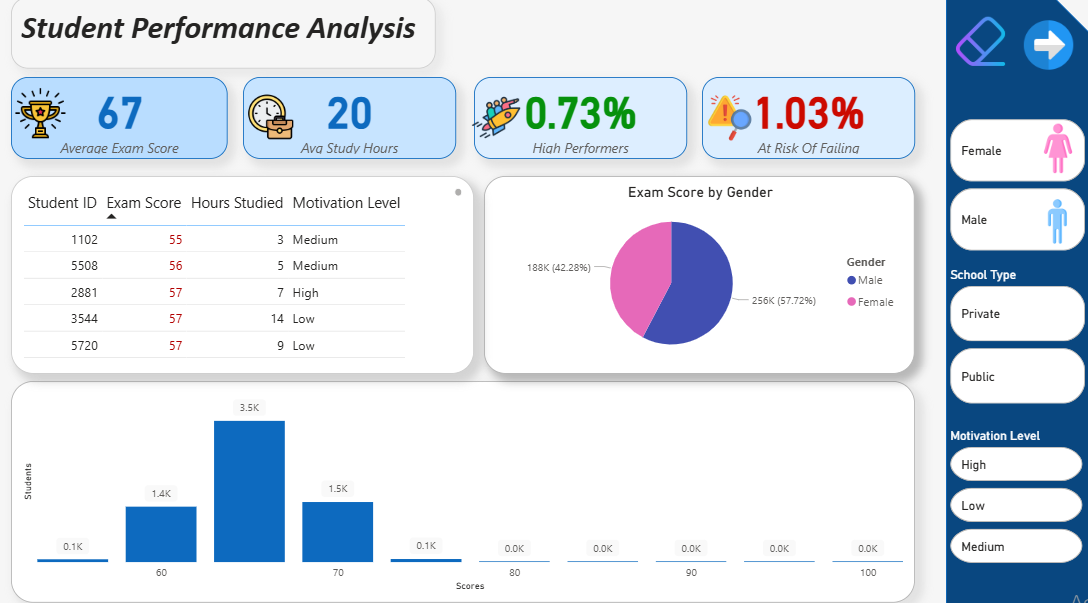

The dashboard page shown, as its layout file describes it:
{"tool":"powerbi","page":{"name":"overview","canvas":[1280,720],"ordinal":0},"visuals":[{"type":"textbox","box":[15.2,0,498.4,84.4],"z":0},{"type":"card","title":"Average exam score","fields":{"Values":["StudentPerformanceFactors.Avg Exam Score"]},"box":[15.2,93.8,254.5,96.2],"z":1000},{"type":"card","fields":{"Values":["StudentPerformanceFactors.Avg Study Hours"]},"box":[287.3,93.8,249.8,96.2],"z":2000},{"type":"card","fields":{"Values":["StudentPerformanceFactors.High Performer %"]},"box":[558.2,93.8,249.8,96.2],"z":3000},{"type":"card","fields":{"Values":["StudentPerformanceFactors.At Risk %"]},"box":[825.5,93.8,249.8,96.2],"z":4000},{"type":"columnChart","fields":{"Y":["CountNonNull(StudentPerformanceFactors.Student_Id)"],"Category":["StudentPerformanceFactors.Score Bucket"]},"box":[15.2,450.3,1060.1,260.3],"z":5000},{"type":"pieChart","title":"Exam Score by Gender","fields":{"Category":["StudentPerformanceFactors.Gender"],"Y":["Sum(StudentPerformanceFactors.Exam_Score)"]},"box":[569.9,209.9,505.4,232.2],"z":6000},{"type":"shape","box":[1111.7,0,168.9,799.7],"z":7000},{"type":"advancedSlicerVisual","fields":{"Values":["StudentPerformanceFactors.Gender"]},"box":[1111.7,138.4,168.9,164.2],"z":10000},{"type":"advancedSlicerVisual","title":"School Type","fields":{"Values":["StudentPerformanceFactors.School_Type"]},"box":[1111.7,317.8,168.9,164.2],"z":11000},{"type":"tableEx","fields":{"Values":["StudentPerformanceFactors.Student_Id","StudentPerformanceFactors.Exam_Score","StudentPerformanceFactors.Hours_Studied","StudentPerformanceFactors.Motivation_Level"]},"box":[15.2,209.9,542.9,232.2],"z":12000},{"type":"advancedSlicerVisual","title":"Motivation Level","fields":{"Values":["StudentPerformanceFactors.Motivation_Level"]},"box":[1111.7,506.6,165.3,164.2],"z":13000},{"type":"image","box":[15.2,99.7,69.2,72.7],"z":14000},{"type":"image","box":[287.3,109.1,64.5,63.3],"z":15000},{"type":"image","box":[825.5,110.2,65.7,63.3],"z":16000},{"type":"image","box":[545.3,104.4,77.4,73.9],"z":17000},{"type":"image","box":[1209,139.5,68,76.2],"z":18000},{"type":"image","box":[1204.3,232.2,76.2,62.1],"z":19000},{"type":"image","box":[1194.9,22.3,73.9,68],"z":19002},{"type":"image","box":[1111.7,9.4,80.9,84.4],"z":19003}]}

Visuals, with their boxes on the page's 1280x720 design canvas (x1, y1, x2, y2). These are canvas units, not pixel positions in the 1088x603 screenshot, which may show the page scaled, cropped or inside an application window:
textbox: <region>15, 0, 514, 84</region>
"Average exam score" card: <region>15, 94, 270, 190</region>
card - StudentPerformanceFactors.Avg Study Hours: <region>287, 94, 537, 190</region>
card - StudentPerformanceFactors.High Performer %: <region>558, 94, 808, 190</region>
card - StudentPerformanceFactors.At Risk %: <region>826, 94, 1075, 190</region>
columnChart - CountNonNull(StudentPerformanceFactors.Student_Id) x StudentPerformanceFactors.Score Bucket: <region>15, 450, 1075, 711</region>
"Exam Score by Gender" pieChart: <region>570, 210, 1075, 442</region>
shape: <region>1112, 0, 1281, 800</region>
advancedSlicerVisual - StudentPerformanceFactors.Gender: <region>1112, 138, 1281, 303</region>
"School Type" advancedSlicerVisual: <region>1112, 318, 1281, 482</region>
tableEx - StudentPerformanceFactors.Student_Id x StudentPerformanceFactors.Exam_Score: <region>15, 210, 558, 442</region>
"Motivation Level" advancedSlicerVisual: <region>1112, 507, 1277, 671</region>
image: <region>15, 100, 84, 172</region>
image: <region>287, 109, 352, 172</region>
image: <region>826, 110, 891, 174</region>
image: <region>545, 104, 623, 178</region>
image: <region>1209, 140, 1277, 216</region>
image: <region>1204, 232, 1280, 294</region>
image: <region>1195, 22, 1269, 90</region>
image: <region>1112, 9, 1193, 94</region>
